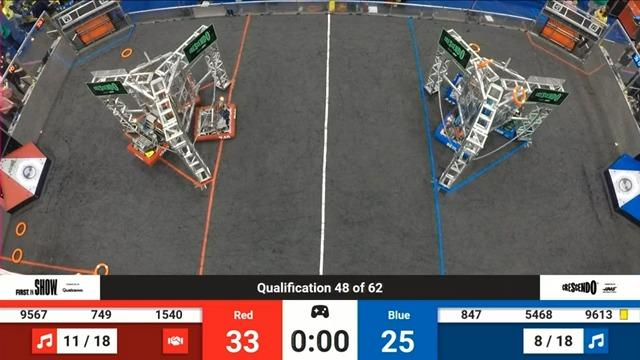robot: (119, 112, 172, 168), (187, 97, 239, 144), (434, 109, 488, 153), (491, 106, 524, 147), (448, 69, 481, 107)
